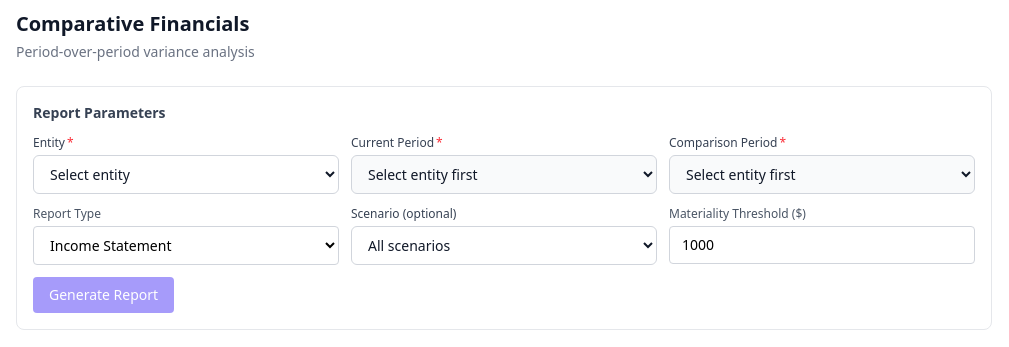
Test case: ComparativeFinancialsPage › period pickers enable after entity is selected
Select "ACME — Acme Corp" in the dropdown below "Entity" at (186, 174), box [33, 155, 339, 194]
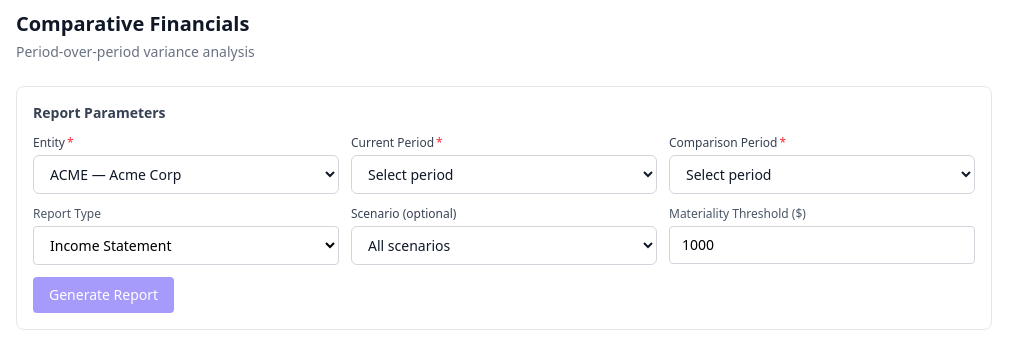
Now the dropdown with test id "period-select" is enabled, box [351, 155, 657, 194]
